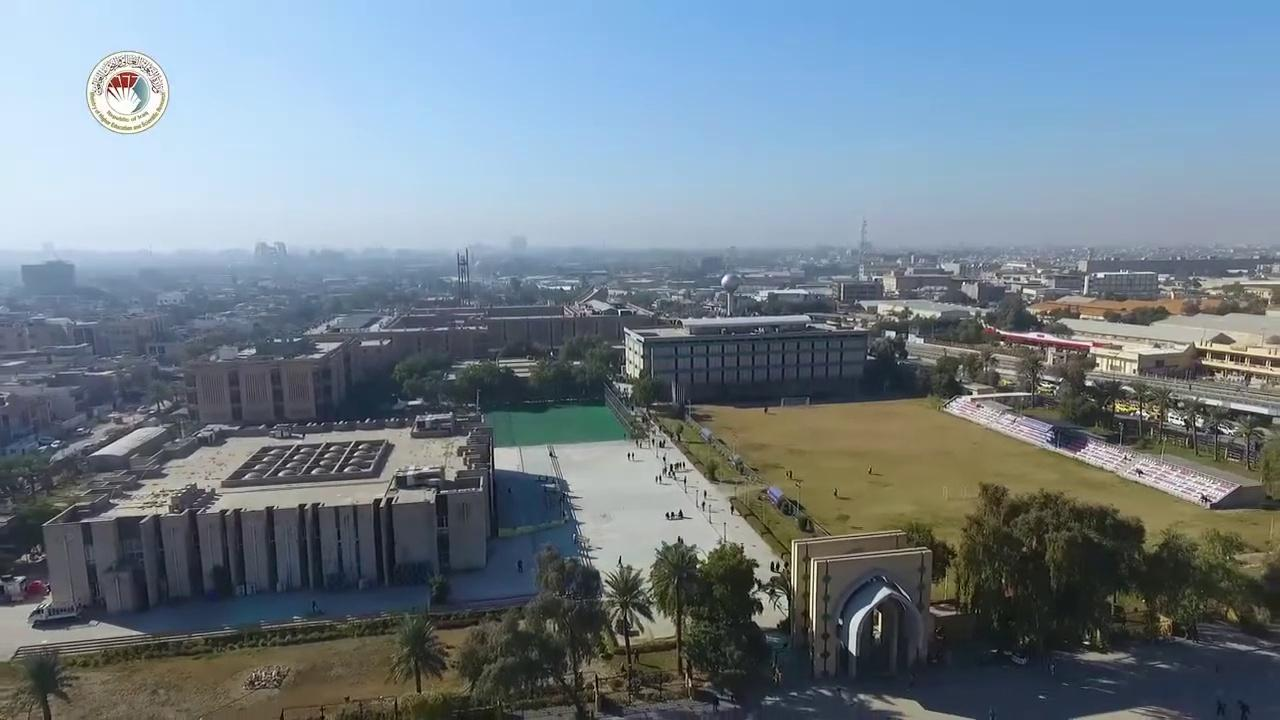person: (1236, 698, 1251, 719), (1215, 699, 1226, 717)
tree: (382, 534, 791, 716), (953, 481, 1144, 671), (1126, 526, 1250, 642), (454, 607, 567, 718), (682, 539, 765, 686), (523, 590, 615, 717), (600, 555, 654, 702), (648, 536, 701, 678), (382, 611, 447, 694), (903, 519, 957, 604), (11, 651, 74, 719), (758, 558, 798, 645), (1144, 383, 1176, 463), (1227, 411, 1266, 471), (1121, 379, 1153, 437), (1057, 350, 1097, 396), (1014, 350, 1045, 407), (1178, 394, 1206, 454), (1256, 433, 1279, 500), (1203, 401, 1229, 460), (1099, 378, 1126, 430), (931, 351, 960, 396), (422, 570, 448, 613), (140, 379, 173, 412), (629, 371, 655, 409), (958, 349, 982, 382), (978, 346, 997, 384), (703, 456, 721, 481)
